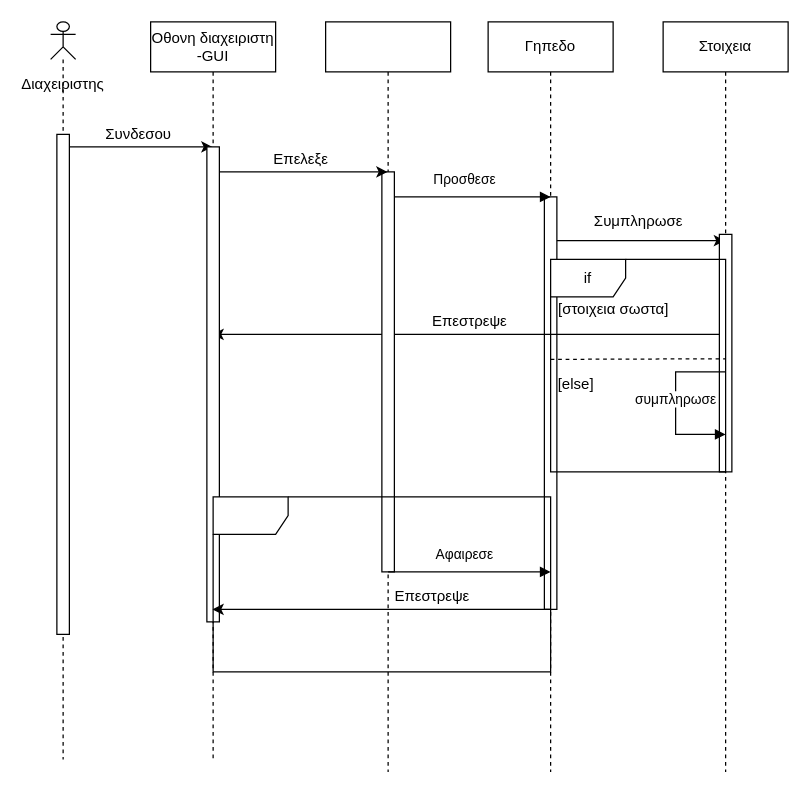
The diagram is 810 pixels wide and 794 high, and some of its shapes have lost their labels. The shapes that lost their labels are listed below. From the top down, each one's box as (x1, y1, x2, y2) in pixels, then its label:
(324, 21, 451, 772): Λιστα γηπεδων
(212, 496, 551, 672): Εναλ
